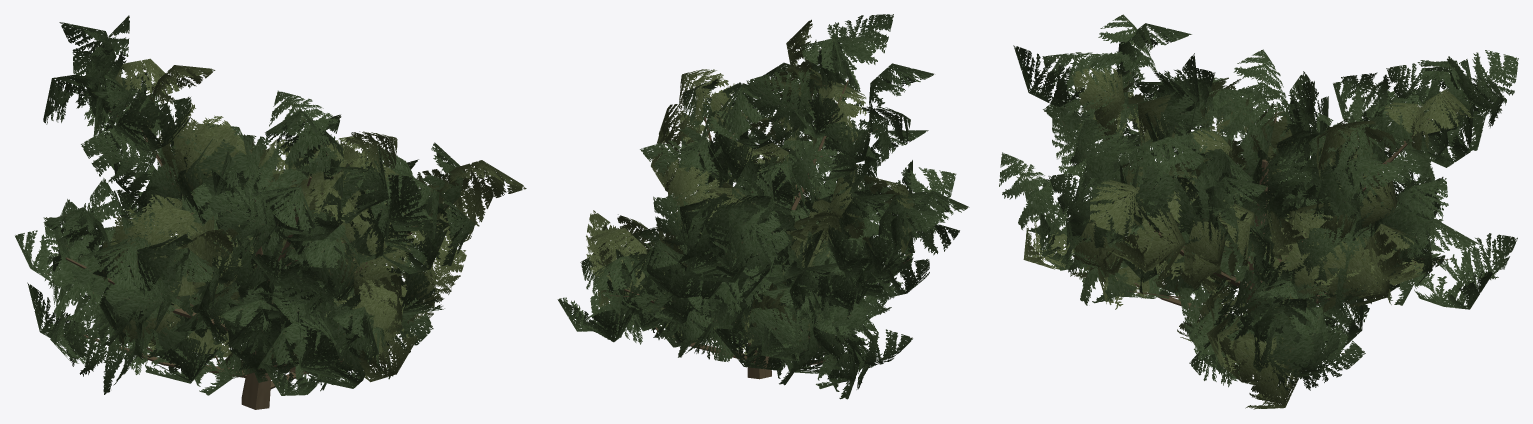
The model's file is SM_CN_Juniper_A_LOD1.glb.
The picture shows the model from 3 angles, left to right: view 1: azimuth 30°, elevation 25°; view 2: azimuth 150°, elevation 25°; view 3: azimuth 270°, elevation 25°; orthographic projection. The views are drawn at different scales.
Visible parts, largest first — view 1: SM_CN_Juniper_A_LOD1; view 2: SM_CN_Juniper_A_LOD1; view 3: SM_CN_Juniper_A_LOD1.
Boxes of the visible parts, bbox=[...] form: SM_CN_Juniper_A_LOD1: bbox=[15, 15, 526, 409]; SM_CN_Juniper_A_LOD1: bbox=[557, 14, 969, 399]; SM_CN_Juniper_A_LOD1: bbox=[999, 14, 1518, 409].
Bounding box in the file's own units: 2 × 1.65 × 2.35.
Materials: 2 (2 with a texture image).
